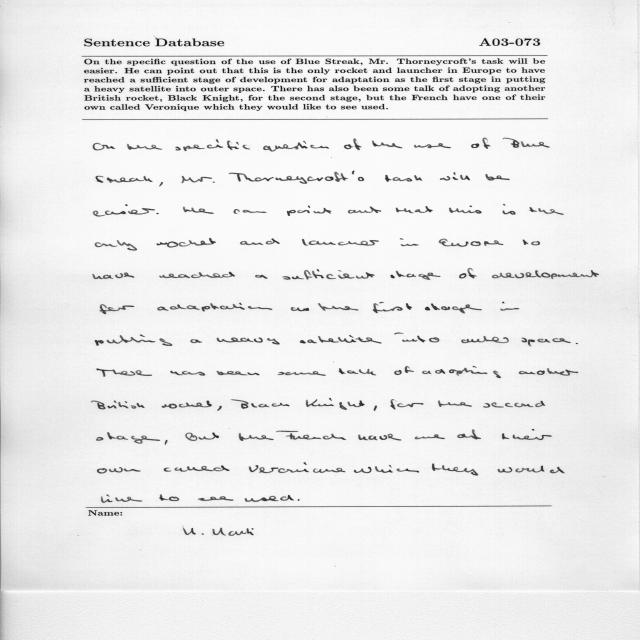word: (229, 171, 364, 184), (283, 269, 375, 280), (492, 270, 599, 279), (249, 463, 345, 473), (95, 334, 172, 346), (158, 303, 273, 311), (175, 139, 250, 151), (93, 204, 155, 217), (435, 366, 501, 378), (97, 432, 160, 444), (263, 141, 329, 152), (306, 398, 364, 410), (300, 335, 382, 343), (276, 431, 346, 440), (156, 238, 216, 248), (231, 399, 289, 409), (425, 304, 482, 314), (432, 464, 478, 476), (502, 429, 552, 440), (302, 239, 379, 246), (498, 466, 565, 474), (354, 465, 419, 473), (439, 239, 503, 247), (97, 368, 152, 377), (92, 401, 145, 410), (519, 368, 578, 376), (503, 138, 550, 148), (95, 240, 137, 251), (164, 465, 230, 472), (159, 272, 235, 278), (391, 271, 441, 280), (521, 338, 571, 347), (217, 338, 280, 345), (287, 206, 331, 216), (483, 401, 545, 408), (373, 302, 412, 313), (395, 333, 440, 342), (162, 401, 212, 409), (96, 176, 153, 183), (102, 494, 143, 503), (245, 495, 294, 502), (100, 304, 134, 314), (461, 336, 509, 343), (391, 399, 424, 409), (318, 303, 358, 311), (97, 467, 141, 474), (185, 432, 219, 441), (359, 434, 402, 441), (240, 239, 280, 246), (239, 433, 274, 441), (530, 207, 564, 215), (440, 172, 470, 181), (385, 175, 422, 182), (396, 206, 433, 213), (339, 368, 376, 375), (449, 206, 481, 214), (93, 273, 135, 279), (372, 141, 402, 149), (278, 371, 326, 376), (457, 430, 481, 440), (181, 176, 215, 183), (438, 400, 472, 407), (348, 207, 381, 214), (183, 207, 214, 214), (127, 144, 162, 150), (471, 138, 490, 149), (344, 139, 362, 150), (459, 268, 477, 279), (414, 143, 451, 148), (394, 366, 414, 375), (485, 174, 510, 181), (170, 371, 205, 376), (198, 496, 233, 501), (217, 371, 260, 375), (501, 302, 520, 311), (234, 209, 267, 214), (93, 143, 115, 150), (400, 238, 419, 246), (415, 435, 445, 440), (503, 204, 516, 215), (159, 495, 179, 502), (523, 240, 540, 246), (291, 307, 309, 311), (255, 275, 268, 279), (190, 339, 202, 343), (422, 371, 432, 374), (217, 406, 222, 411), (374, 405, 377, 411), (159, 182, 163, 186), (165, 440, 168, 445), (298, 499, 300, 501), (156, 213, 159, 214), (576, 343, 578, 344)
